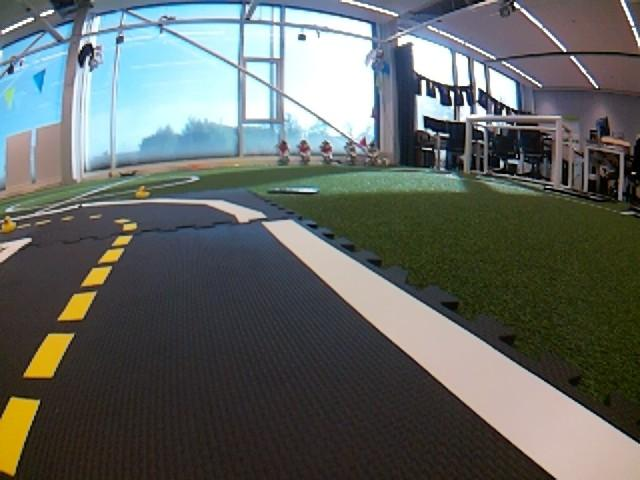Duckies: (2, 215, 15, 232), (135, 185, 150, 198)
